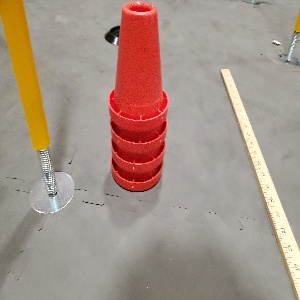Red_4: (106, 3, 176, 188)
